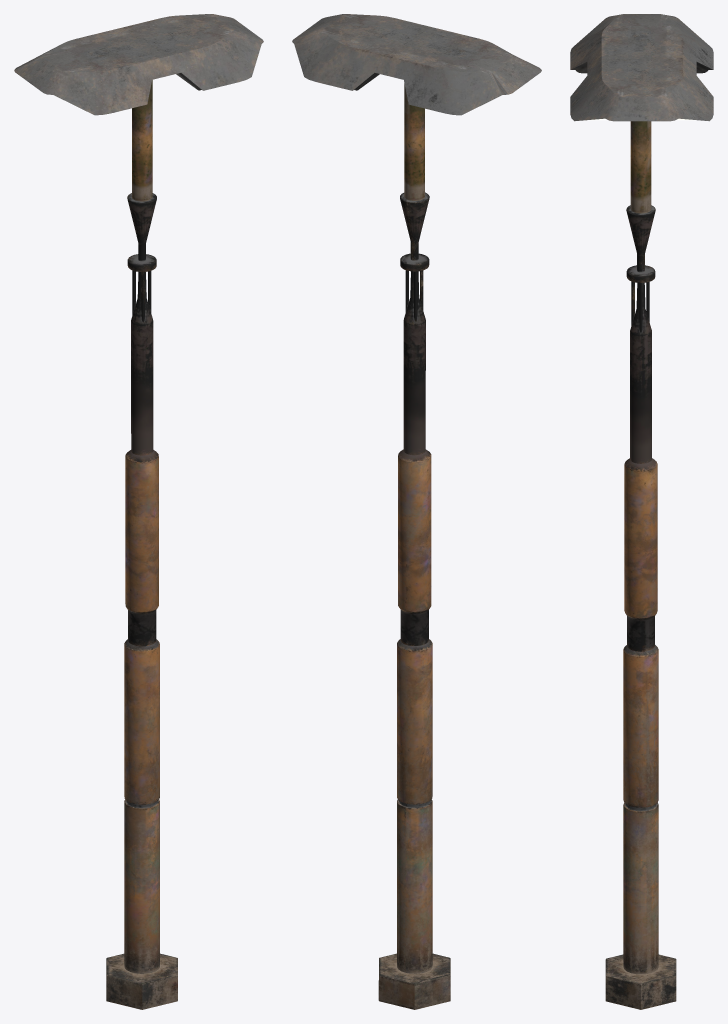
The model's file is xi_dsp_pole.gltf.
The picture shows the model from 3 angles, left to right: view 1: azimuth 30°, elevation 25°; view 2: azimuth 150°, elevation 25°; view 3: azimuth 270°, elevation 25°; orthographic projection.
Parts seen in each view (by area): view 1: xi_dsp_pole; view 2: xi_dsp_pole; view 3: xi_dsp_pole.
Boxes of the visible parts, x1=… form: xi_dsp_pole: x1=14, y1=14, x2=263, y2=1009; xi_dsp_pole: x1=292, y1=14, x2=541, y2=1009; xi_dsp_pole: x1=570, y1=14, x2=713, y2=1009.
Bounding box in the file's own units: 4.02 × 16.64 × 2.31.
2 materials, 2 textured.
